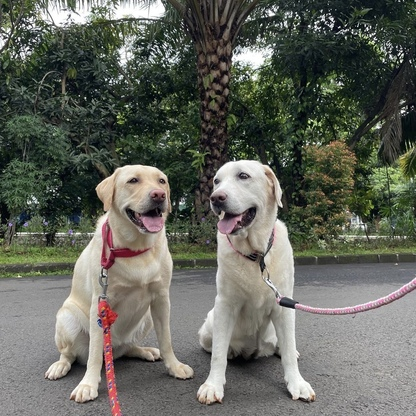labrado: (39, 162, 195, 407), (195, 156, 319, 409)
